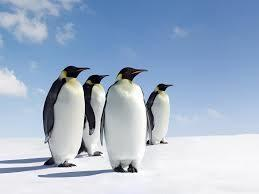emporer: (31, 51, 91, 169), (101, 58, 154, 178), (141, 76, 185, 152)
